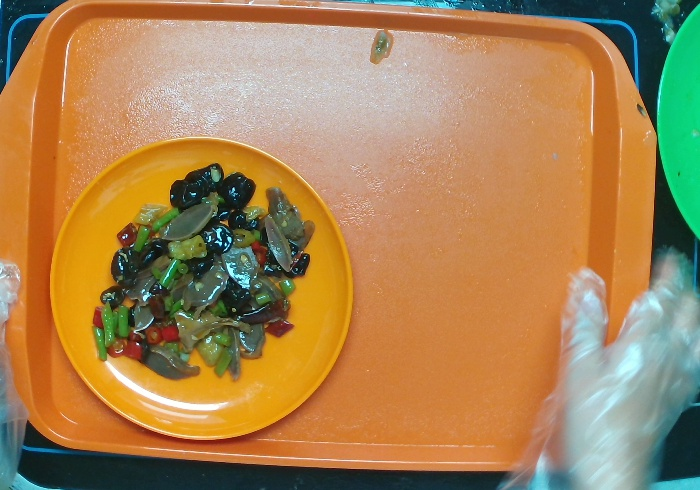HZYJPL-Ju_Huang_Yuan_Pan: (48, 134, 355, 441)
